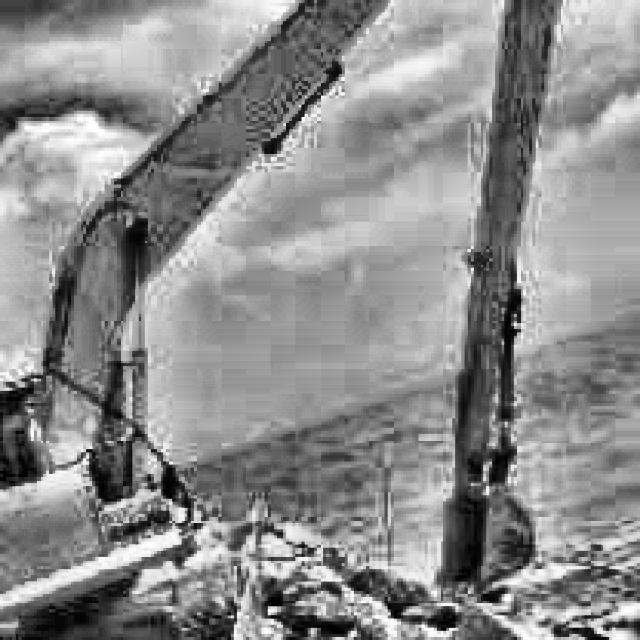excavator: (0, 0, 588, 640)
